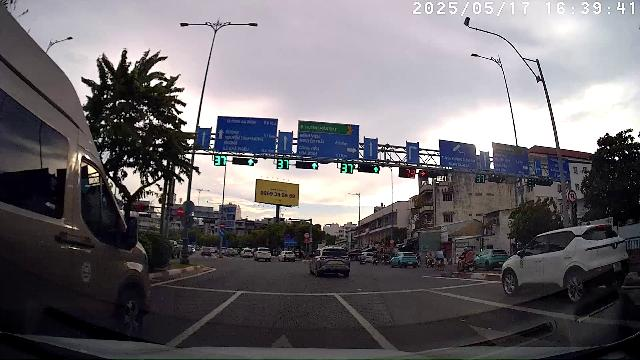124a-cam-quay-dau-xe: (568, 189, 576, 202)
